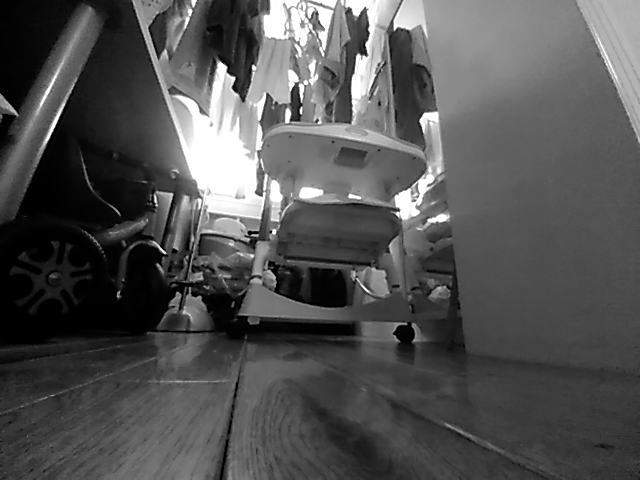others: (233, 282, 427, 347)
